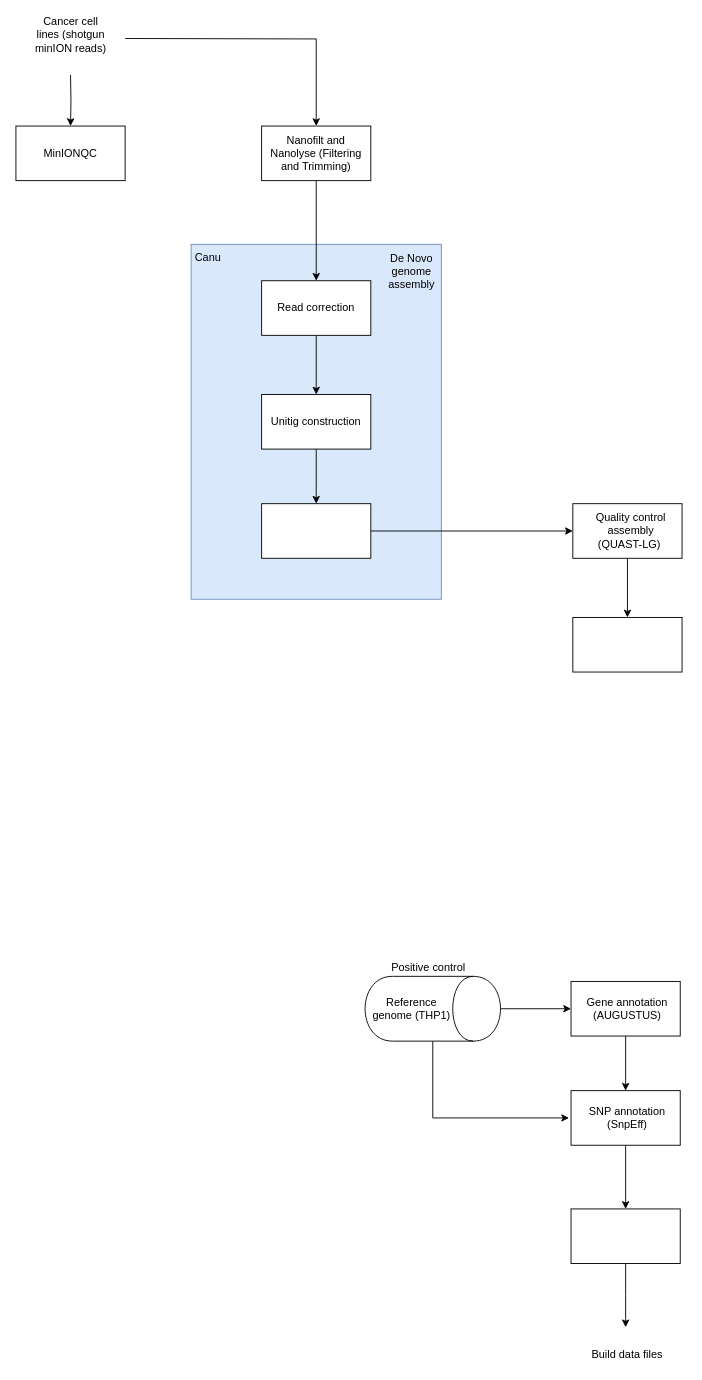
This 702x1380 diagram has some shape labels left out. The shapes that lost their labels are listed below. From the top down, each one's centre as x and y in pixels, then its label:
the point at 316,530: Compute overlaps
the point at 627,644: Assembly polishing (racon)
the point at 625,1236: Acquire prerequisites
